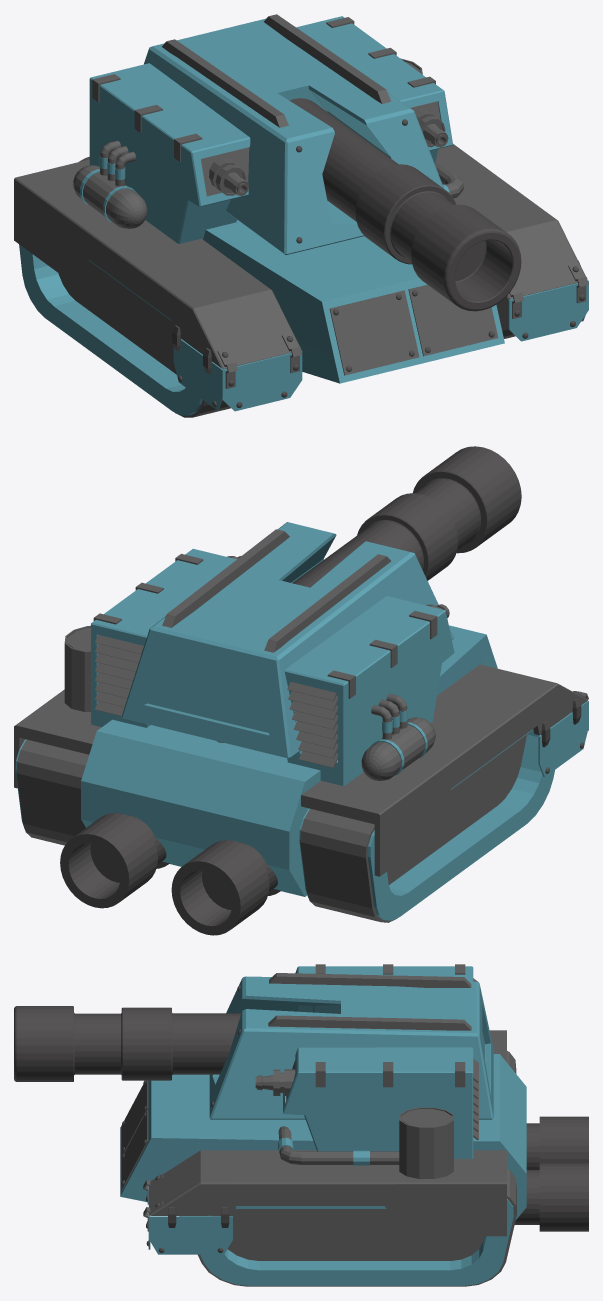
The model's file is BigTankAnimation.fbx.
The picture shows the model from 3 angles, top to bottom: view 1: azimuth 30°, elevation 25°; view 2: azimuth 150°, elevation 25°; view 3: azimuth 270°, elevation 25°; orthographic projection. The views are drawn at different scales.
Visible parts, largest first — view 1: Abigtank, Abigtank.002, Abigtank.001; view 2: Abigtank, Abigtank.002, Abigtank.001; view 3: Abigtank, Abigtank.002, Abigtank.001.
Part boxes in pixels (box(x1,y1,x2,y2)): Abigtank: box(14, 16, 588, 417); Abigtank.002: box(144, 14, 443, 254); Abigtank.001: box(289, 98, 521, 311); Abigtank: box(14, 548, 588, 935); Abigtank.002: box(122, 522, 453, 758); Abigtank.001: box(292, 446, 521, 587); Abigtank: box(120, 964, 588, 1286); Abigtank.002: box(209, 973, 493, 1119); Abigtank.001: box(14, 1006, 340, 1081).
Size of the model in its own units: 462 by 300 by 719.
